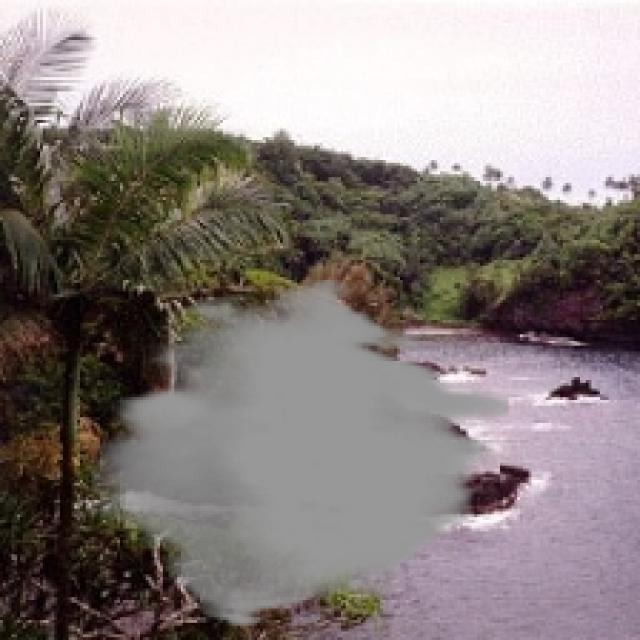smoke: (91, 277, 508, 629)
